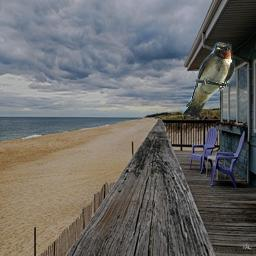Swallow: (181, 42, 235, 119)
